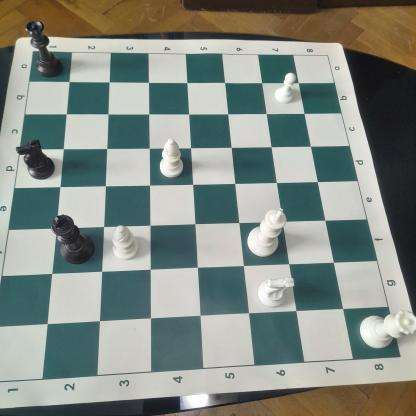black-king: (48, 209, 96, 267)
black-knight: (13, 137, 58, 182)
black-queen: (22, 17, 66, 79)
white-bishop: (158, 136, 187, 181), (110, 224, 141, 262)
white-king: (244, 206, 290, 260)
white-knight: (255, 271, 298, 312)
white-pawn: (271, 70, 301, 109)
white-queen: (356, 305, 416, 353)
